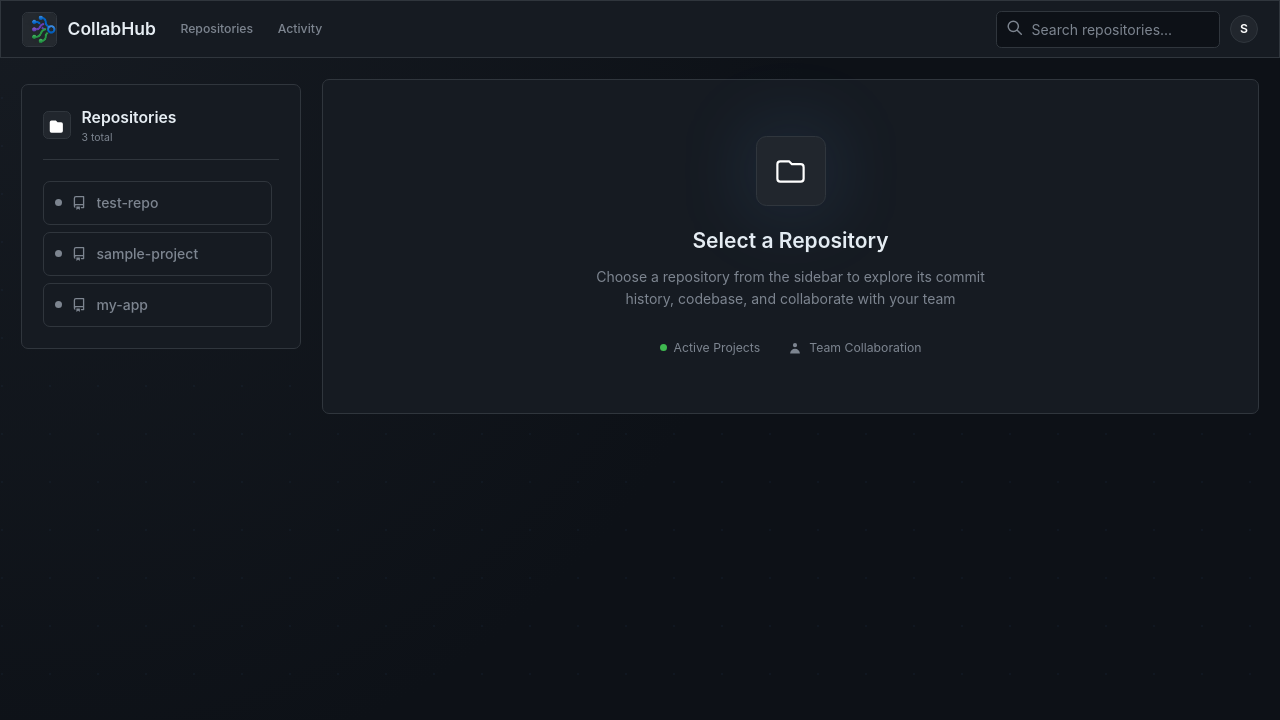
Test: Codebase Files (Code Tab) › Error States › should show error when file tree fails to load
Click the button "test-repo" at (158,203), box x1=43 y1=181 x2=272 y2=225
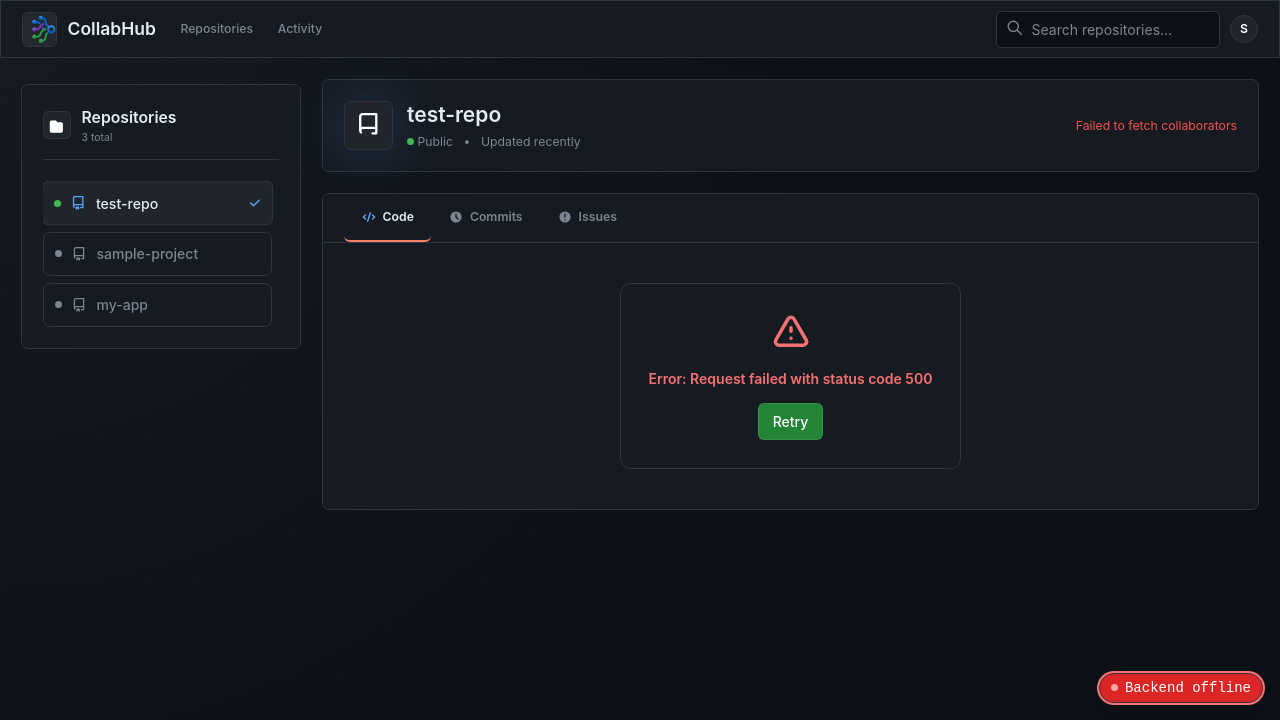
Open "/"
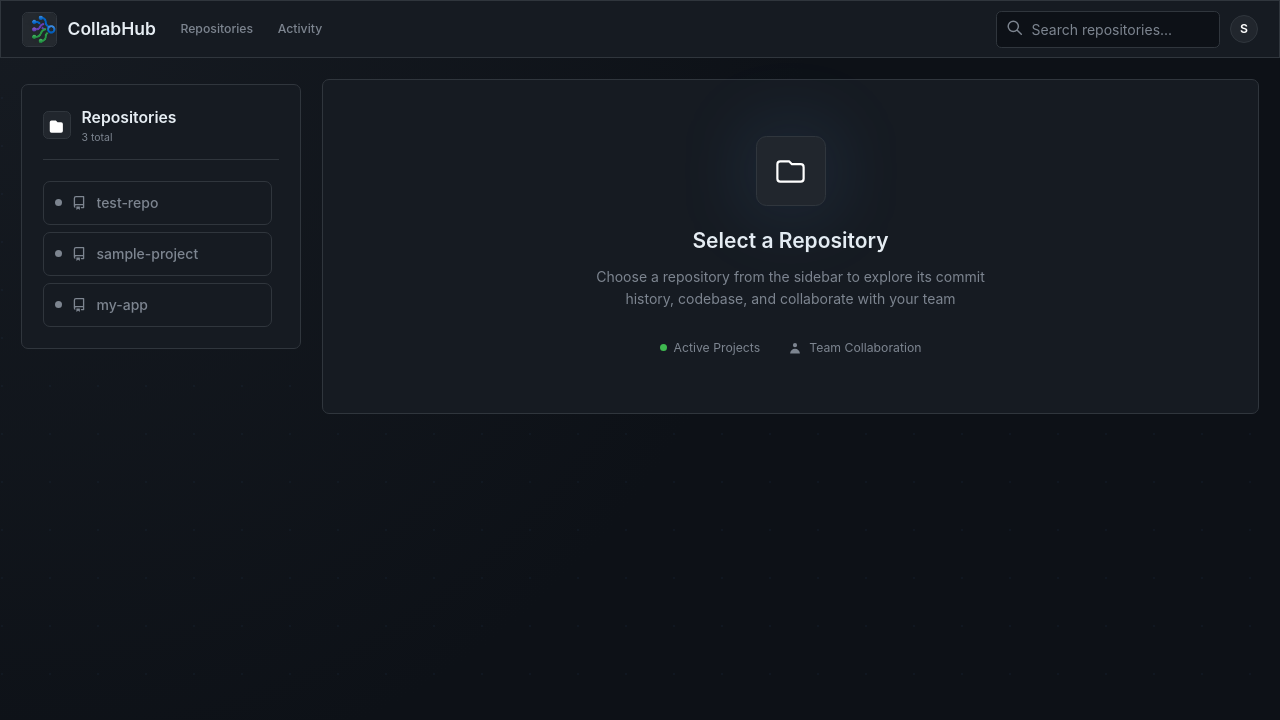
Click the button "test-repo" at (158,203), box x1=43 y1=181 x2=272 y2=225
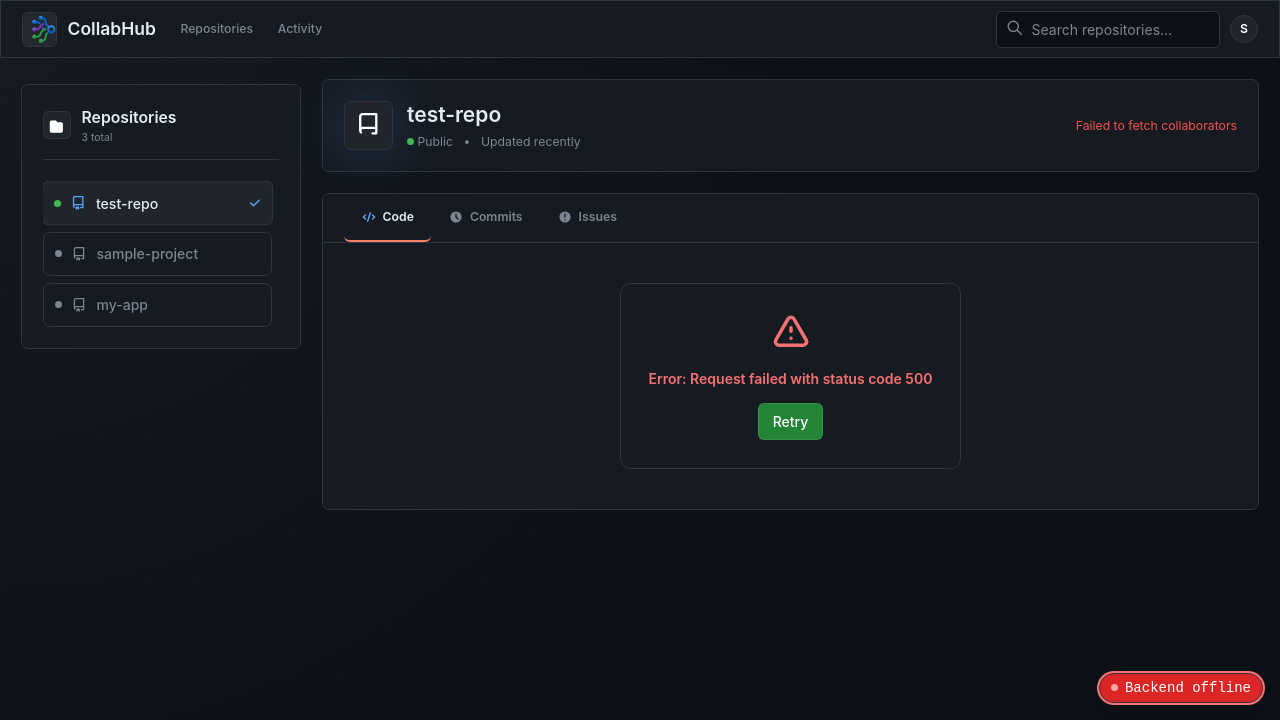
Check: the text "Error" is shown, box x1=649 y1=370 x2=691 y2=387
